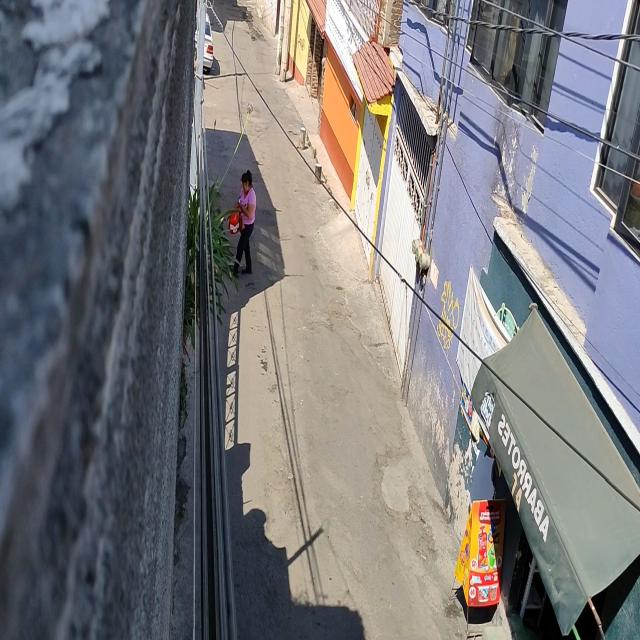adult: (231, 169, 256, 277)
